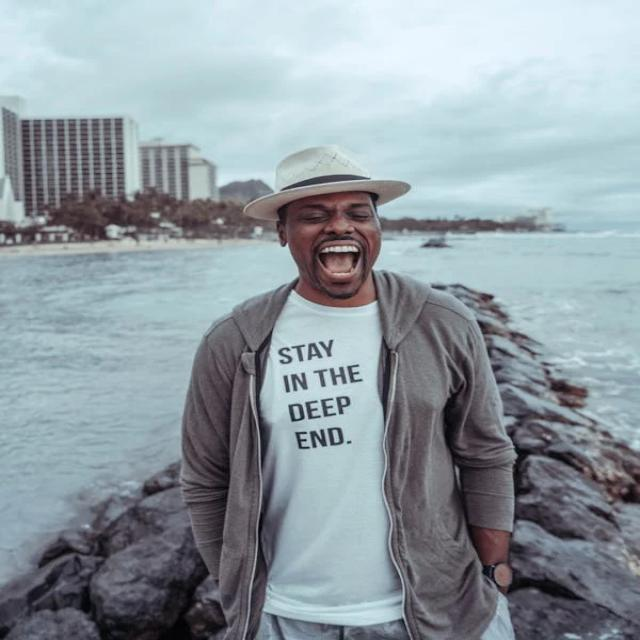Real human 2: (162, 138, 539, 640)
